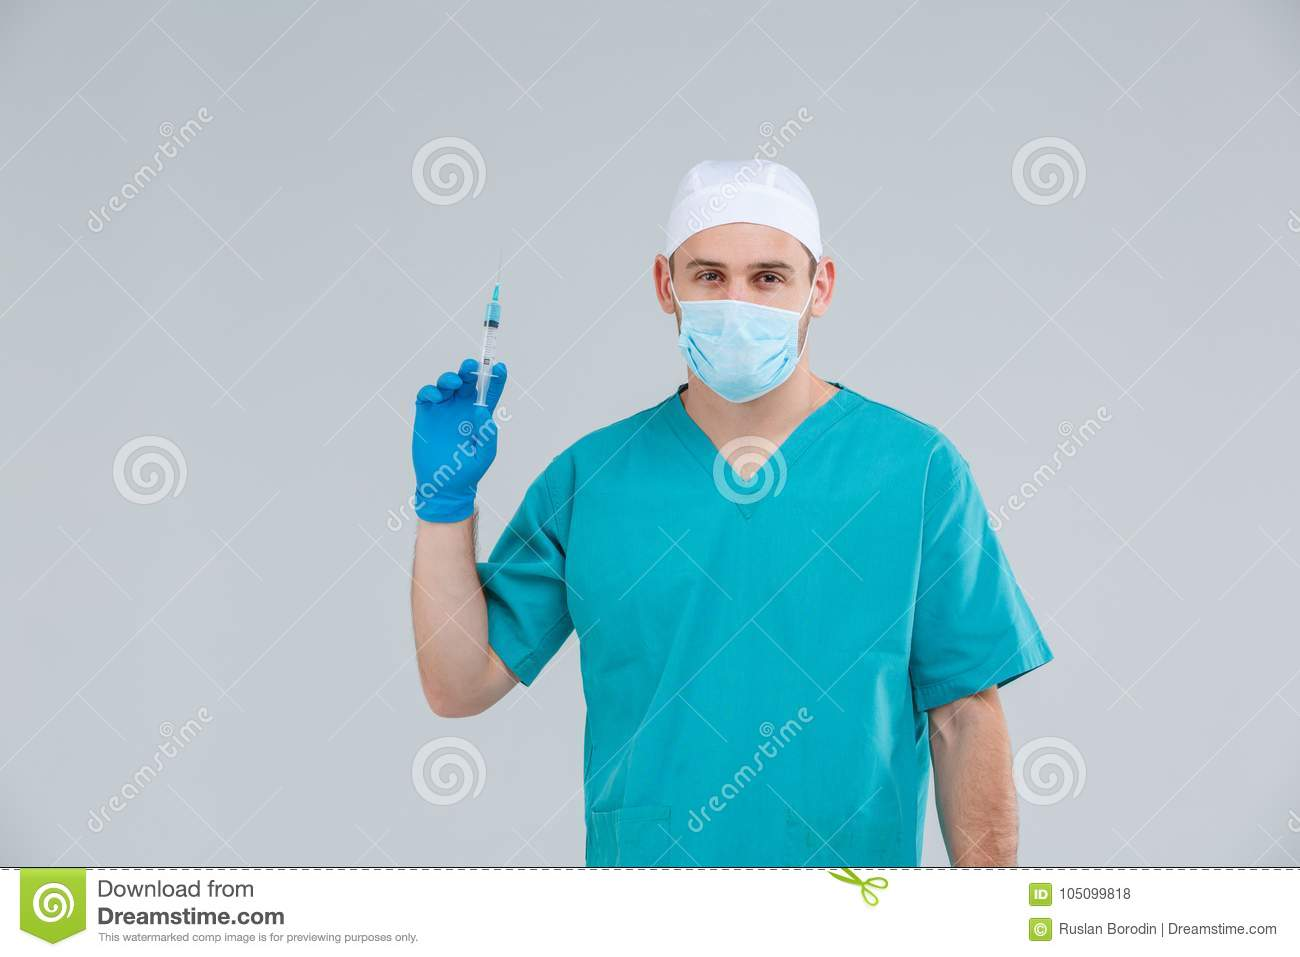mask: (689, 296, 810, 392)
